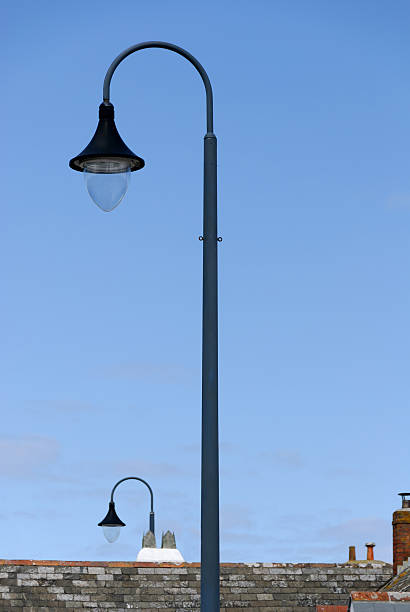light_pole: (198, 136, 222, 610)
